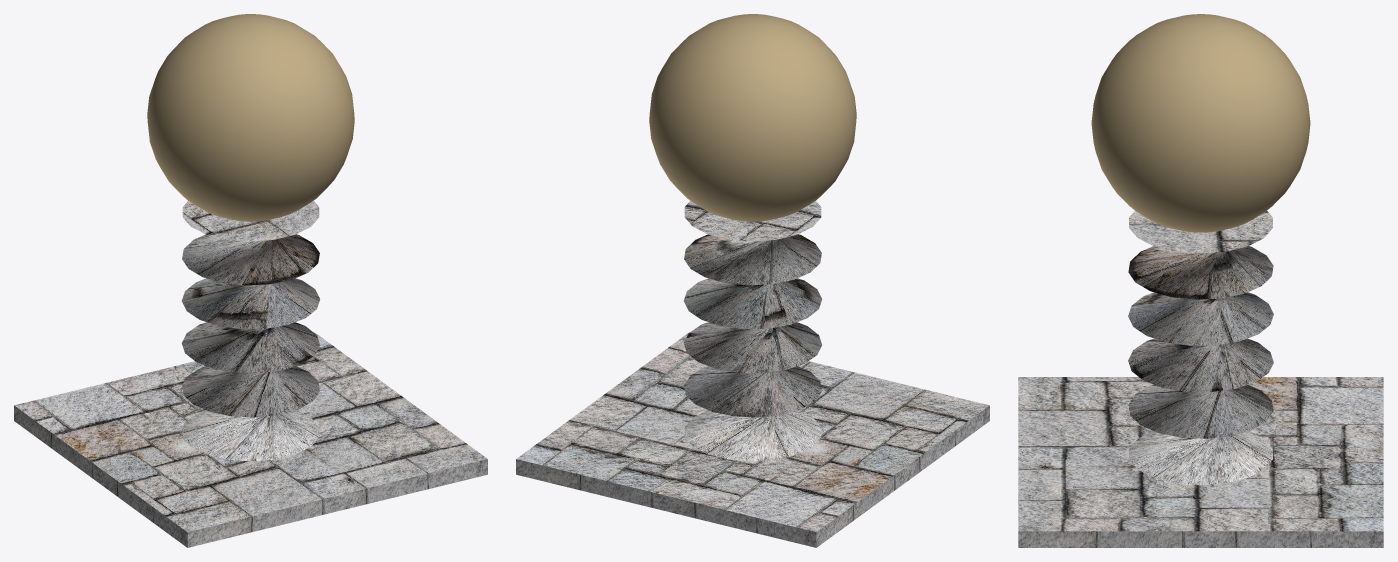
3 views of the same model, side by side, from view 1: azimuth 30°, elevation 25°; view 2: azimuth 150°, elevation 25°; view 3: azimuth 270°, elevation 25° (orthographic). The views are drawn at different scales.
Parts seen in each view (by area): view 1: Box001, Sphere001, Cylinder001; view 2: Box001, Sphere001, Cylinder001; view 3: Box001, Sphere001, Cylinder001.
Part boxes in pixels (x1,y1,x2,y2): Box001: (14, 332, 487, 547); Sphere001: (147, 14, 354, 221); Cylinder001: (181, 200, 320, 461); Box001: (516, 332, 989, 547); Sphere001: (649, 14, 856, 221); Cylinder001: (683, 200, 822, 461); Box001: (1018, 377, 1383, 547); Sphere001: (1091, 14, 1310, 232); Cylinder001: (1128, 211, 1273, 484).
Bounding box in the file's own units: 1 × 1.35 × 1.
Materials: 3 (2 with a texture image).
